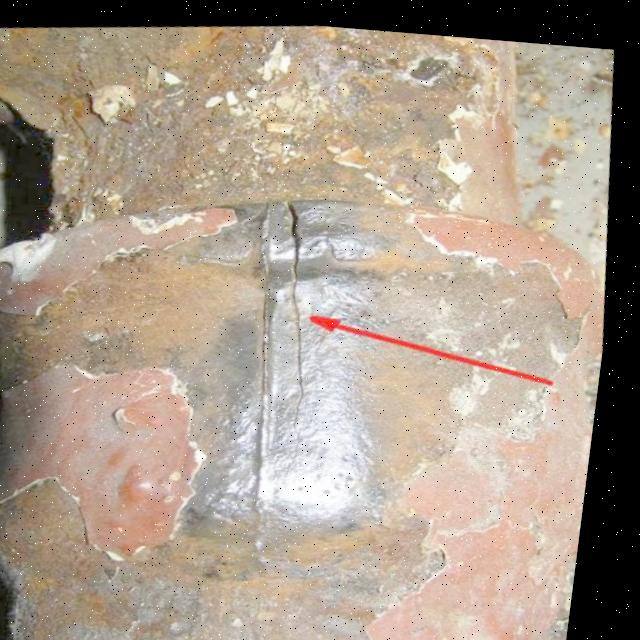crack: (262, 189, 340, 430)
